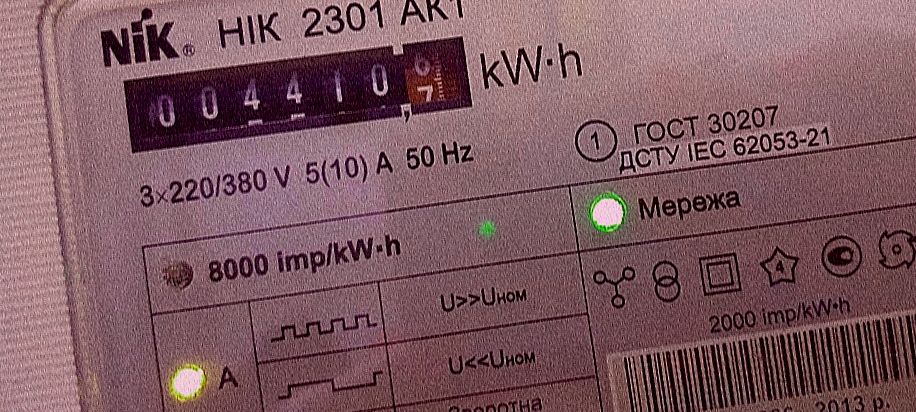0: (153, 88, 179, 129), (368, 59, 392, 98), (198, 81, 221, 121)
1: (328, 65, 347, 104)
4: (280, 67, 307, 108), (238, 72, 264, 112)
6: (413, 49, 434, 77)
7: (415, 81, 437, 103)
screen: (110, 18, 487, 167)
